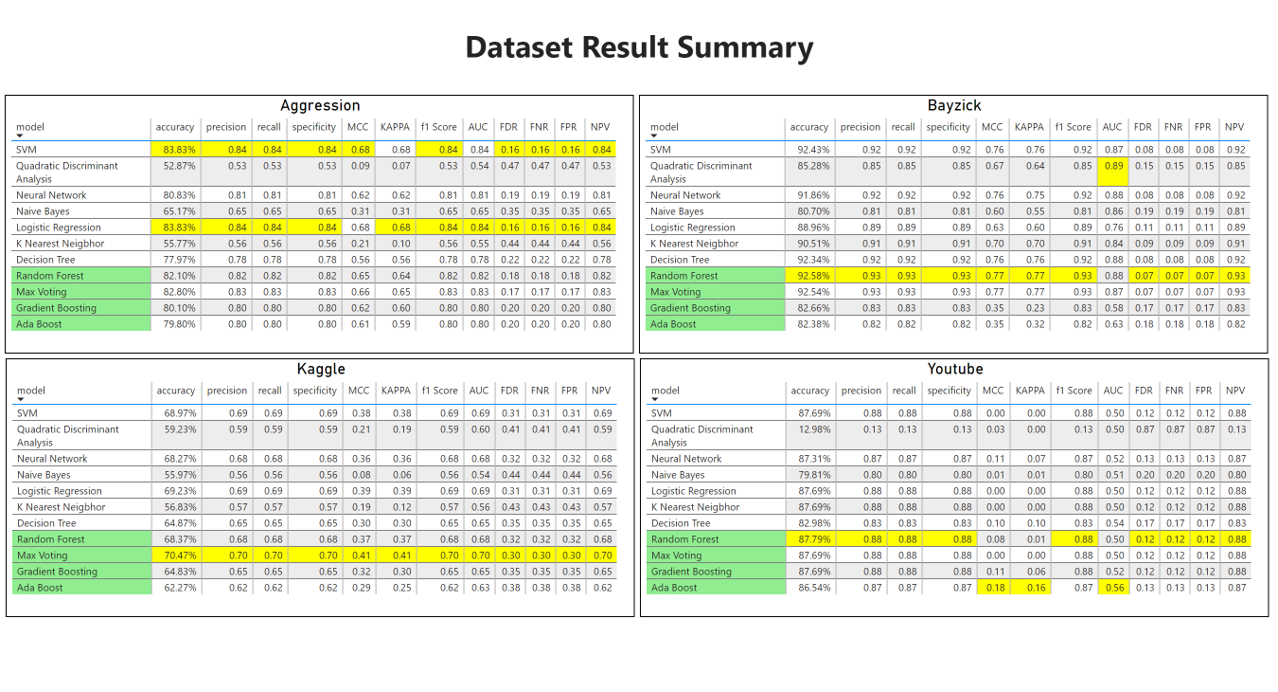

What the dashboard file says about the page in this screenshot:
{"tool":"powerbi","page":{"name":"Dataset Result Summary","canvas":[1350,720],"ordinal":0},"visuals":[{"type":"tableEx","title":"Aggression","fields":{"Values":["dataset results.model","dataset results.accuracy","dataset results.precision","dataset results.recall","dataset results.specificity","dataset results.MCC","dataset results.KAPPA","Sum(dataset results.f1)","dataset results.AUC","Sum(dataset results.false_discovery_rate)","Sum(dataset results.false_negative_rate)","Sum(dataset results.false_positive_rate)"]},"box":[5.1,99.5,664.7,272.9],"z":0},{"type":"textbox","box":[468.8,20.5,412.4,62.6],"z":4000},{"type":"tableEx","title":"Bayzick","fields":{"Values":["dataset results.model","dataset results.accuracy","dataset results.precision","dataset results.recall","dataset results.specificity","dataset results.MCC","dataset results.KAPPA","Sum(dataset results.f1)","dataset results.AUC","Sum(dataset results.false_discovery_rate)","Sum(dataset results.false_negative_rate)","Sum(dataset results.false_positive_rate)"]},"box":[675,99.5,664.7,272.9],"z":4001},{"type":"tableEx","title":"Youtube","fields":{"Values":["dataset results.model","dataset results.accuracy","dataset results.precision","dataset results.recall","dataset results.specificity","dataset results.MCC","dataset results.KAPPA","Sum(dataset results.f1)","dataset results.AUC","Sum(dataset results.false_discovery_rate)","Sum(dataset results.false_negative_rate)","Sum(dataset results.false_positive_rate)"]},"box":[675.8,378.3,664.7,272.9],"z":4002},{"type":"tableEx","title":"Kaggle","fields":{"Values":["dataset results.model","dataset results.accuracy","dataset results.precision","dataset results.recall","dataset results.specificity","dataset results.MCC","dataset results.KAPPA","Sum(dataset results.f1)","dataset results.AUC","Sum(dataset results.false_discovery_rate)","Sum(dataset results.false_negative_rate)","Sum(dataset results.false_positive_rate)"]},"box":[5.9,378.3,664.7,272.9],"z":4003}]}

Visuals, with their boxes in screenshot pixels (x1, y1, x2, y2), scaled from the page's 1350x720 canvas onto the 1278x692 screenshot:
"Aggression" tableEx: bbox=[5, 96, 634, 358]
textbox: bbox=[444, 20, 834, 80]
"Bayzick" tableEx: bbox=[639, 96, 1268, 358]
"Youtube" tableEx: bbox=[640, 364, 1269, 626]
"Kaggle" tableEx: bbox=[6, 364, 635, 626]
